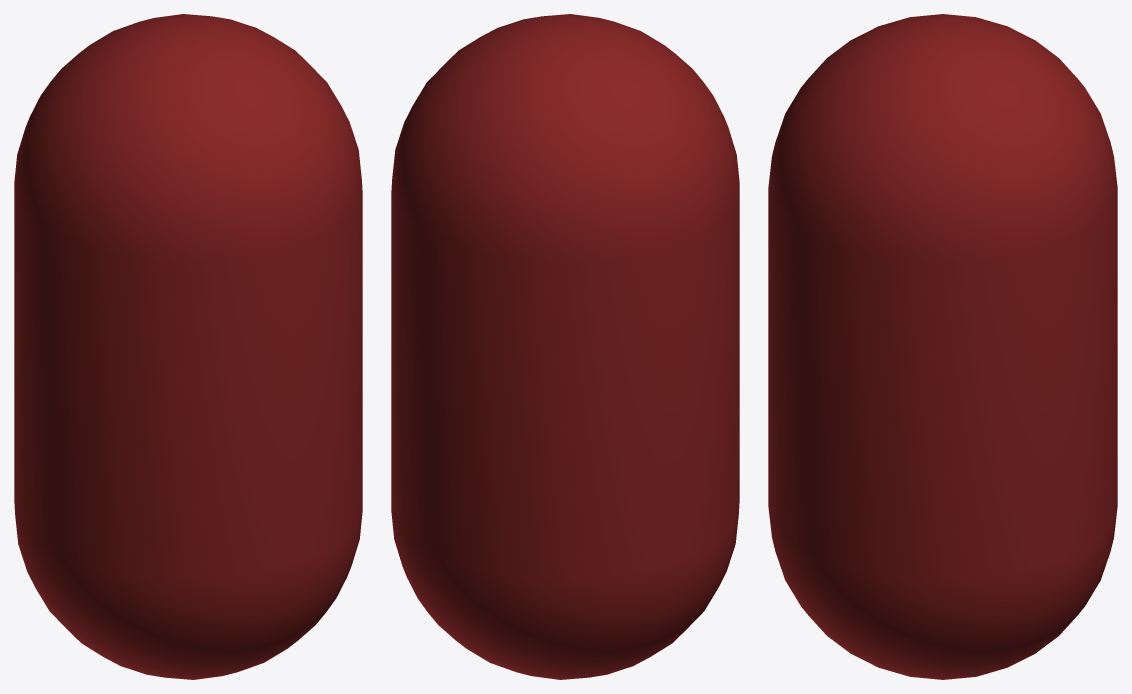
File: Bald.fbx
3 views of the same model, side by side, from view 1: azimuth 30°, elevation 25°; view 2: azimuth 150°, elevation 25°; view 3: azimuth 270°, elevation 25° (orthographic).
Parts seen in each view (by area): view 1: capsule_boi:Model; view 2: capsule_boi:Model; view 3: capsule_boi:Model.
Part boxes in pixels (x1,y1,x2,y2): capsule_boi:Model: (14, 14, 362, 679); capsule_boi:Model: (391, 14, 739, 679); capsule_boi:Model: (768, 14, 1117, 679).
Size of the model in its own units: 100 by 200 by 100.
